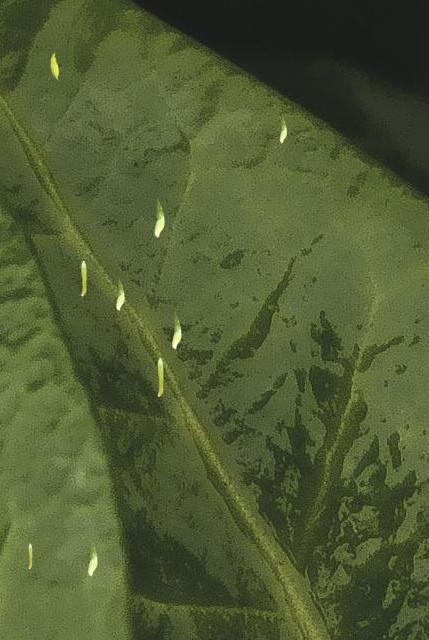ampalaya: (154, 198, 164, 237), (171, 311, 181, 349), (87, 538, 97, 576), (115, 277, 124, 310), (50, 51, 59, 80), (157, 357, 163, 397), (279, 114, 287, 143), (80, 260, 86, 296), (28, 543, 32, 569)
